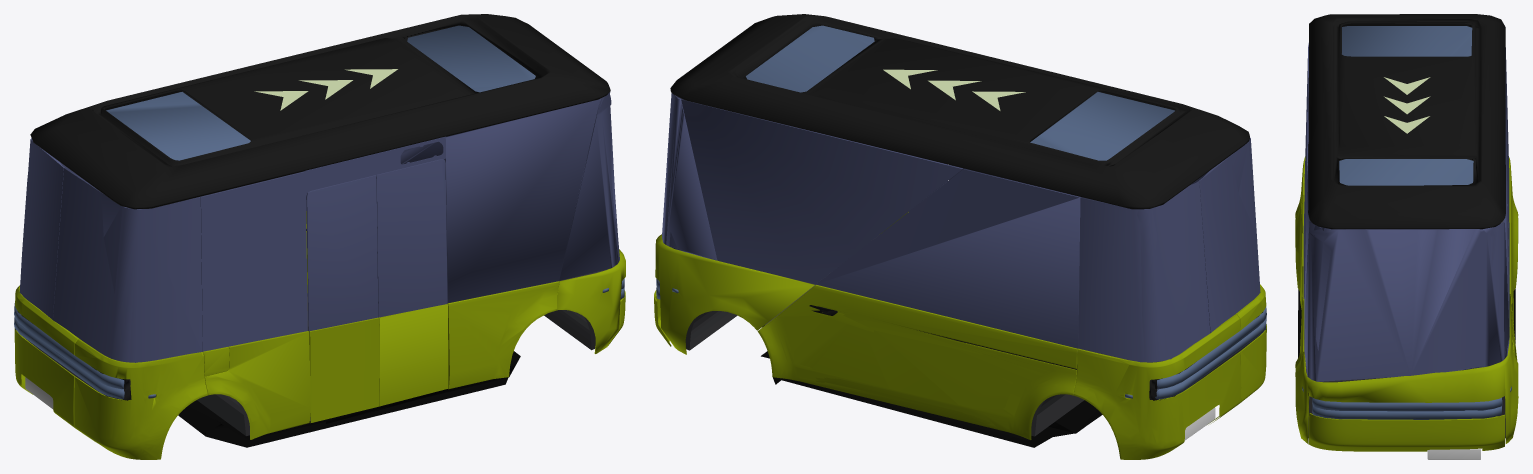
Rendered from vbb1_body.fbx.
3 views of the same model, side by side, from view 1: azimuth 30°, elevation 25°; view 2: azimuth 150°, elevation 25°; view 3: azimuth 270°, elevation 25° (orthographic). The views are drawn at different scales.
Visible parts, largest first — view 1: Roof, Glass_Ext.002, Glass_Ext.007, Glass_Ext.001, Glass_Right_Door, Glass_Left_Door, Glass_Roof, Body_Main.002, Body_Main, Body_Main.003, Doors_Left, Glass_Ext (+11 smaller); view 2: Roof, Glass_Ext.004, Glass_Ext.005, Body_Main.006, Glass_Ext.006, Body_Main.001, Glass_Roof, Body_Main.004, Glass_Ext.007, Glass_Ext, Underbody, Glass_Lights.008 (+4 smaller); view 3: Roof, Glass_Ext, Body_Main.004, Glass_Roof, Body_Main.005, Glass_Lights.007, Body_Main.006, Plane, Body_Main.003, License_Plate.001, Glass_Ext.004, Glass_Ext.005 (+4 smaller).
Part boxes in pixels (x1,y1,x2,y2): Roof: (30,14,610,209); Glass_Ext.002: (445,99,599,302); Glass_Ext.007: (53,168,202,362); Glass_Ext.001: (200,171,307,351); Glass_Right_Door: (376,159,447,317); Glass_Left_Door: (306,175,378,331); Glass_Roof: (106,25,535,160); Body_Main.002: (74,339,207,459); Body_Main: (203,281,559,389); Body_Main.003: (204,331,310,439); Doors_Left: (309,317,379,422); Glass_Ext: (461,92,619,280); Roof: (670,14,1249,209); Glass_Ext.004: (681,99,962,284); Glass_Ext.005: (816,169,1080,348); Body_Main.006: (757,285,1077,439); Glass_Ext.006: (1078,181,1210,362); Body_Main.001: (1073,314,1241,459); Glass_Roof: (746,25,1174,160); Body_Main.004: (655,234,814,354); Glass_Ext.007: (1192,137,1260,332); Glass_Ext: (662,93,717,260); Underbody: (761,351,1102,447); Glass_Lights.008: (1155,306,1266,399); Roof: (1308,14,1505,229); Glass_Ext: (1304,220,1509,381); Body_Main.004: (1295,294,1518,444); Glass_Roof: (1339,26,1473,185); Body_Main.005: (1309,413,1504,451); Glass_Lights.007: (1312,397,1502,419); Body_Main.006: (1509,180,1518,360); Plane: (1384,77,1430,133); Body_Main.003: (1295,195,1304,309); License_Plate.001: (1427,449,1480,459); Glass_Ext.004: (1503,99,1509,335); Glass_Ext.005: (1505,48,1509,292).
Size of the model in its own units: 509 by 210 by 264.
